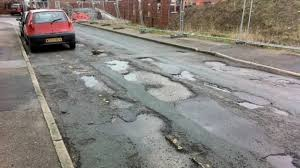pothole: (104, 112, 204, 168), (102, 57, 194, 102), (204, 57, 296, 90), (235, 95, 265, 114)
